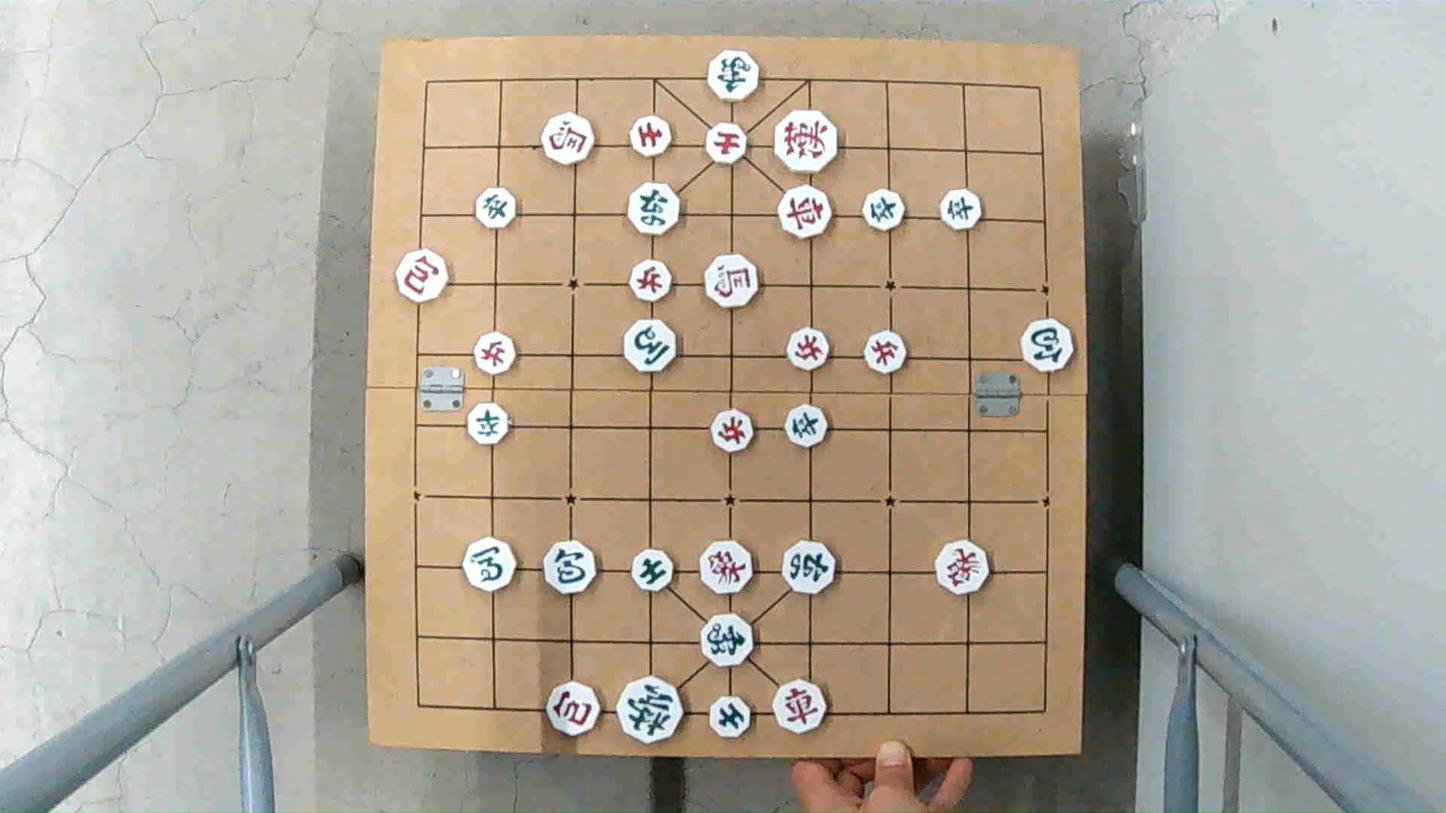cha_green: (625, 183, 682, 233), (782, 542, 837, 592)
cha_red: (773, 683, 829, 732), (776, 188, 833, 236)
jol_green: (466, 406, 512, 446), (783, 408, 829, 447), (474, 190, 520, 228), (941, 191, 984, 230), (863, 190, 907, 228)
jol_red: (863, 333, 908, 373), (709, 411, 755, 450), (786, 331, 830, 370), (473, 336, 519, 373), (628, 263, 673, 300)
ma_green: (463, 541, 520, 591), (624, 321, 679, 367)
ma_red: (705, 257, 763, 306), (540, 117, 596, 165)
po_green: (540, 544, 597, 594), (1018, 322, 1075, 371)
po_red: (545, 686, 604, 735), (395, 253, 452, 302)
sa_green: (629, 549, 676, 589), (709, 695, 751, 738)
sa_red: (704, 125, 752, 163), (629, 117, 674, 156)
sang_green: (698, 616, 755, 665), (707, 54, 763, 102)
sang_red: (933, 544, 988, 594), (701, 541, 757, 590)
wang_green: (613, 679, 685, 741)
wang_red: (773, 113, 840, 171)
